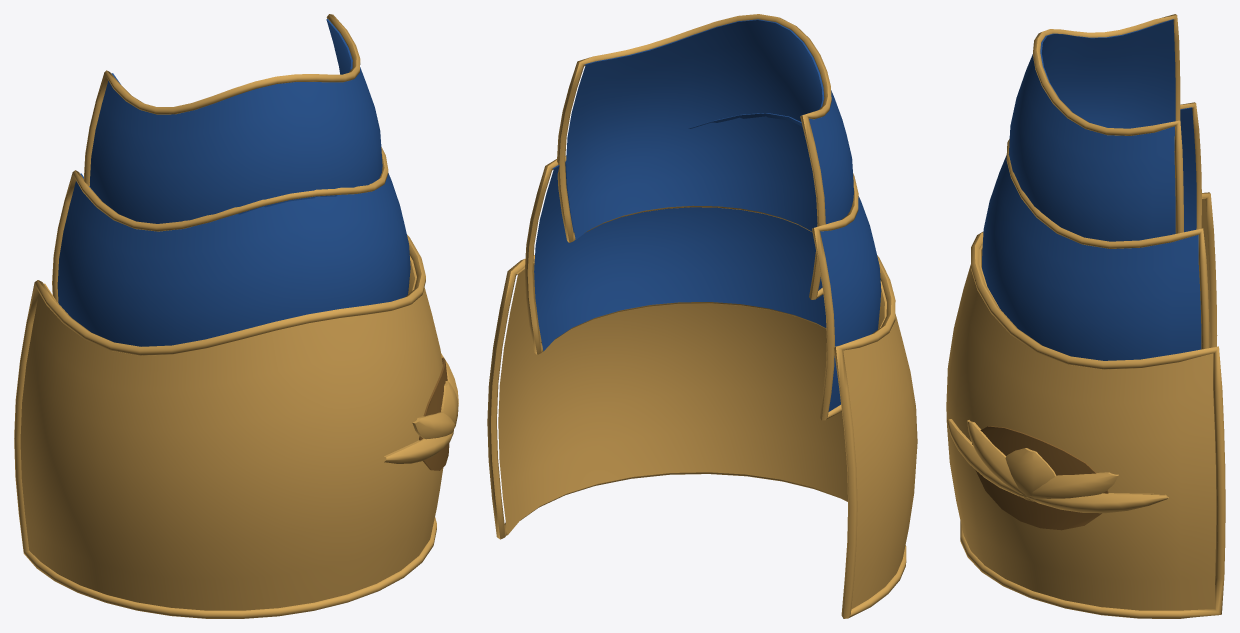
The model's file is shoulder-armour-mid.glb.
3 views of the same model, side by side, from view 1: azimuth 30°, elevation 25°; view 2: azimuth 150°, elevation 25°; view 3: azimuth 270°, elevation 25° (orthographic). The views are drawn at different scales.
Parts seen in each view (by area): view 1: OriginalLeftShoulderArmour; view 2: OriginalLeftShoulderArmour; view 3: OriginalLeftShoulderArmour.
Boxes of the visible parts, bbox=[...] form: OriginalLeftShoulderArmour: bbox=[14, 14, 458, 618]; OriginalLeftShoulderArmour: bbox=[487, 14, 917, 618]; OriginalLeftShoulderArmour: bbox=[946, 14, 1225, 618].
Bounding box in the file's own units: 0.2397 × 0.302 × 0.1563.
